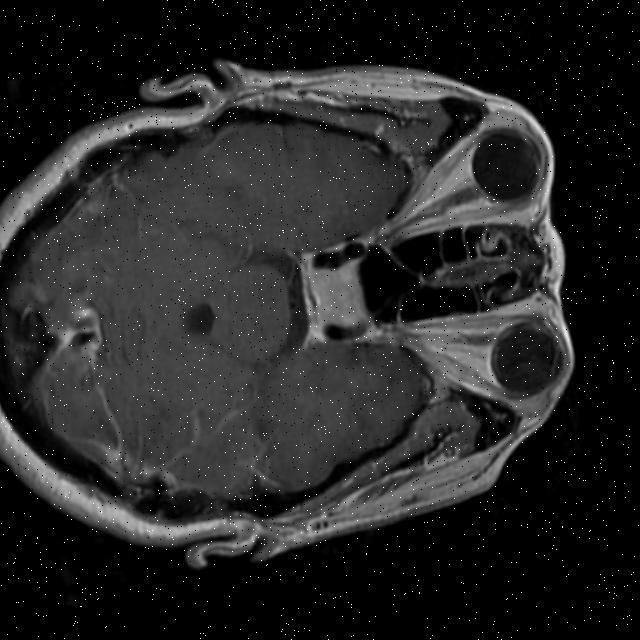Pituitary: (304, 259, 374, 335)
